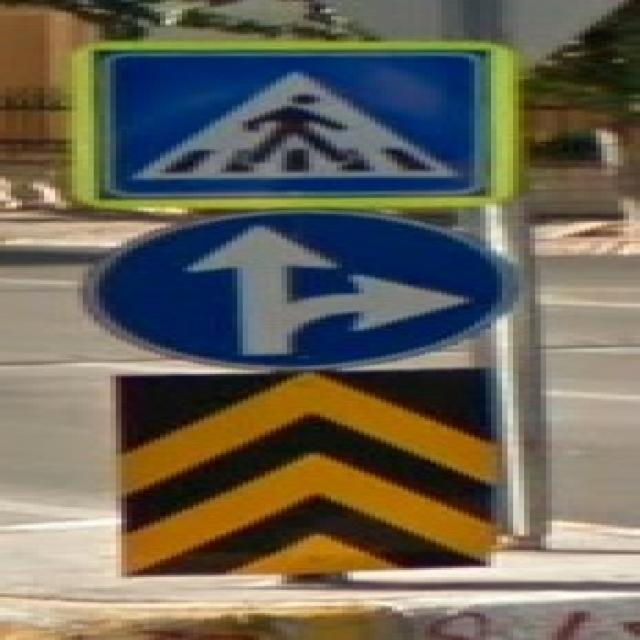Straight or Right: (87, 212, 512, 370)
